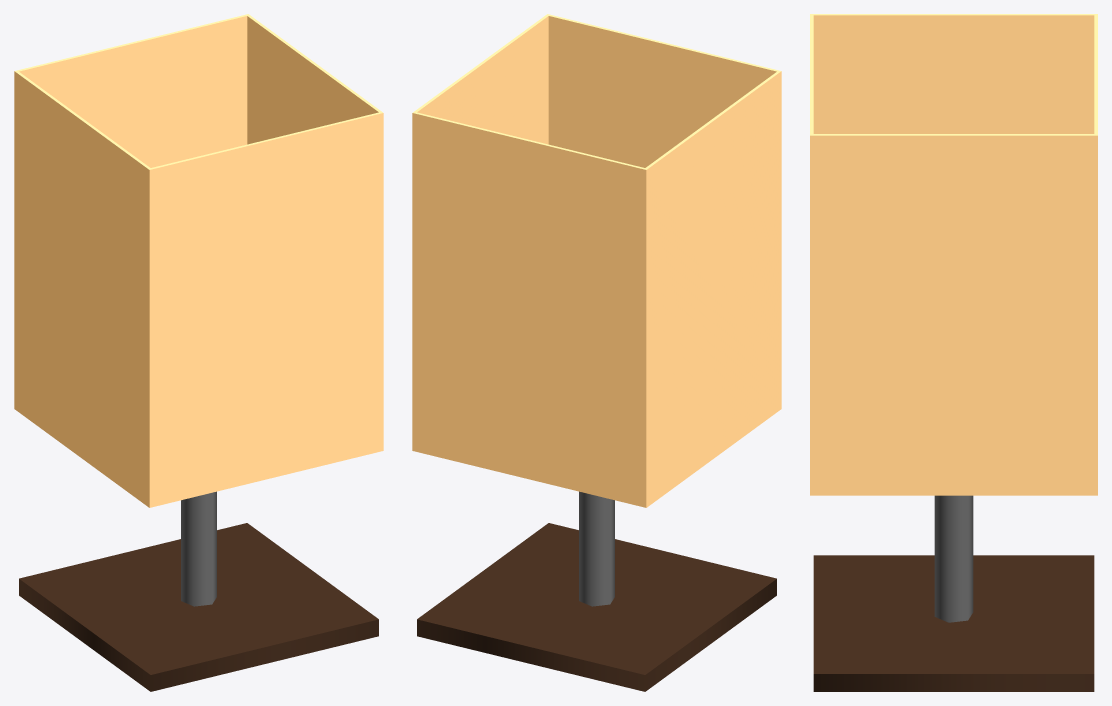
The model's file is Table_Lamp_SquareBase_SquareShade.fbx.
3 renders of one model, left to right at view 1: azimuth 30°, elevation 25°; view 2: azimuth 150°, elevation 25°; view 3: azimuth 270°, elevation 25°, orthographic. The views are drawn at different scales.
Parts seen in each view (by area): view 1: Table_Lamp_SquareBase_SquareShade; view 2: Table_Lamp_SquareBase_SquareShade; view 3: Table_Lamp_SquareBase_SquareShade.
Part boxes in pixels (x1,y1,x2,y2): Table_Lamp_SquareBase_SquareShade: [14, 14, 383, 691]; Table_Lamp_SquareBase_SquareShade: [412, 14, 781, 691]; Table_Lamp_SquareBase_SquareShade: [810, 14, 1097, 691].
Bounding box in the file's own units: 21.74 × 46.5 × 21.74.
